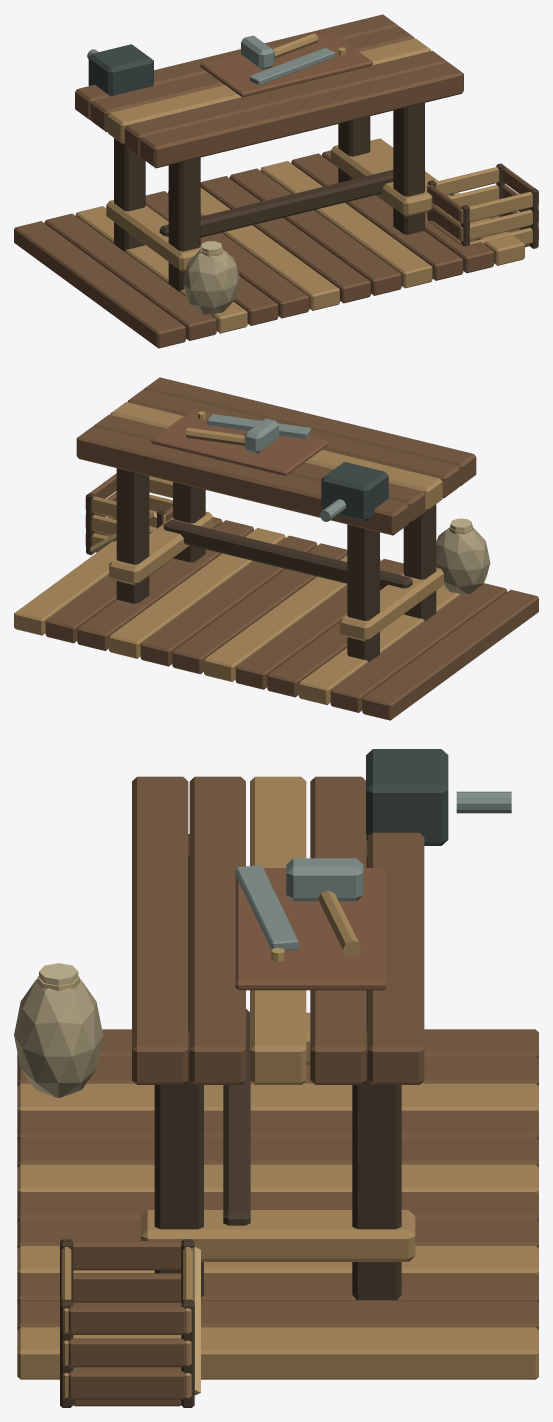
File: Camp_Workbench_L1.fbx
3 views of the same model, one above another, from view 1: azimuth 30°, elevation 25°; view 2: azimuth 150°, elevation 25°; view 3: azimuth 270°, elevation 25° (orthographic). The views are drawn at different scales.
Parts seen in each view (by area): view 1: Camp_Workbench_L1_Export; view 2: Camp_Workbench_L1_Export; view 3: Camp_Workbench_L1_Export.
Boxes of the visible parts, left/top/right/bottom form: Camp_Workbench_L1_Export: left=14, top=14, right=538, bottom=348; Camp_Workbench_L1_Export: left=14, top=377, right=538, bottom=720; Camp_Workbench_L1_Export: left=14, top=749, right=538, bottom=1407.
Size of the model in its own units: 2.99 by 1.46 by 1.91.
